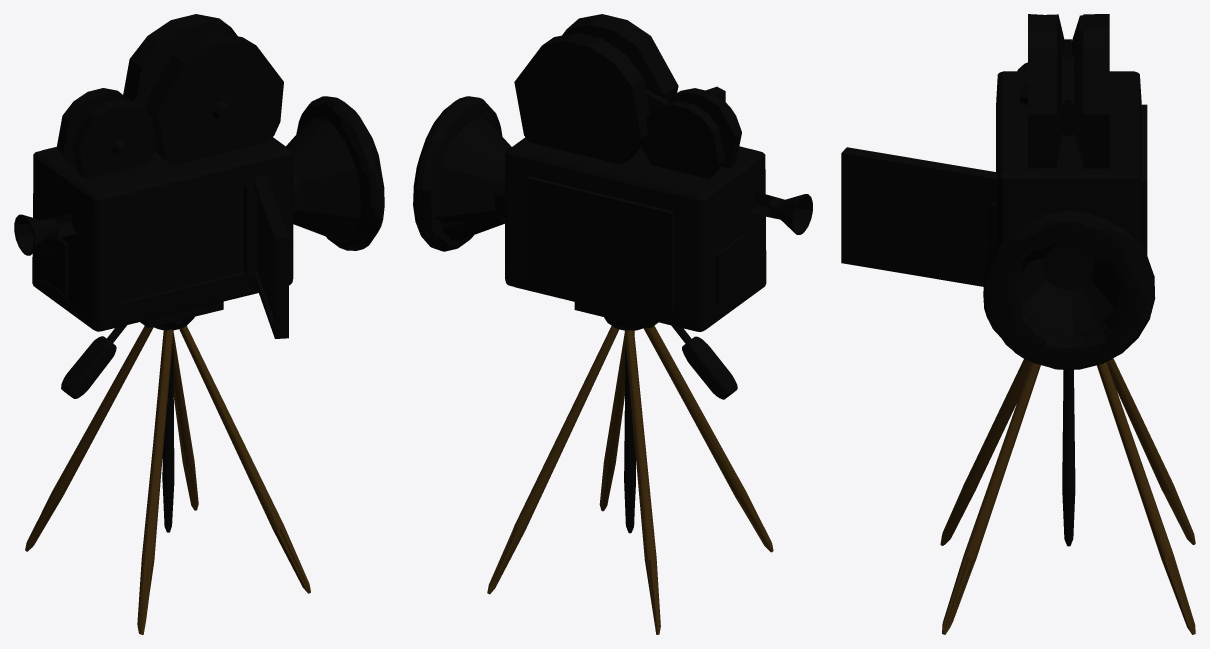
File: camera.glb
The picture shows the model from 3 angles, left to right: view 1: azimuth 30°, elevation 25°; view 2: azimuth 150°, elevation 25°; view 3: azimuth 270°, elevation 25°; orthographic projection. The views are drawn at different scales.
Visible parts, largest first — view 1: Icosphere; view 2: Icosphere; view 3: Icosphere.
Boxes of the visible parts, x1=… form: Icosphere: x1=14, y1=14, x2=384, y2=634; Icosphere: x1=413, y1=14, x2=812, y2=634; Icosphere: x1=841, y1=14, x2=1195, y2=634.
Size of the model in its own units: 2.76 by 4.13 by 2.26.
